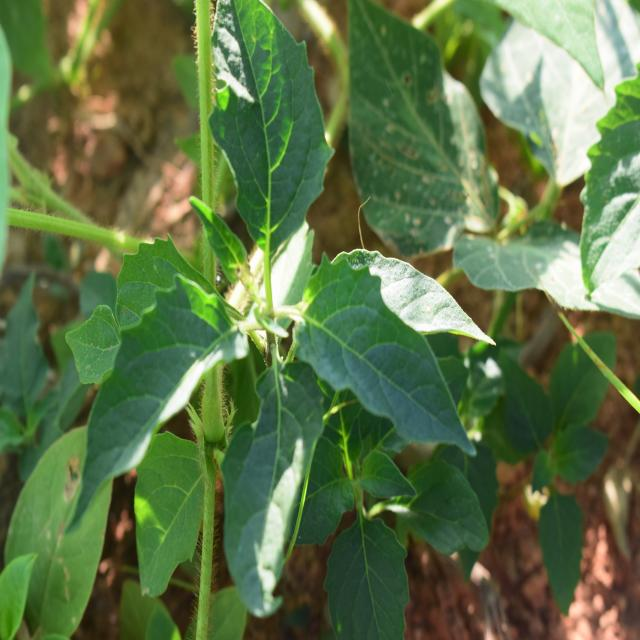Black_nightshade: (85, 22, 460, 566)
